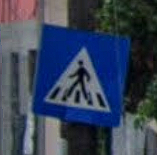trecere_pietoni: (31, 17, 133, 131)
